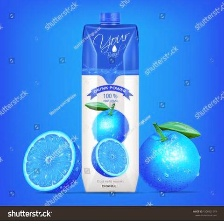carton: (79, 10, 142, 196)
